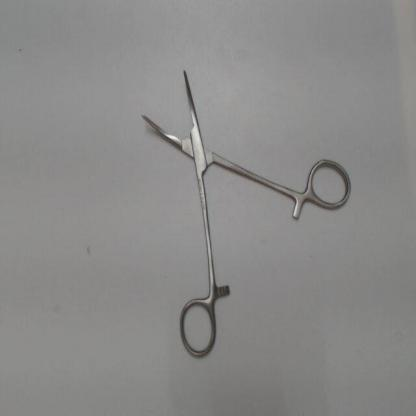Crile Artery Forceps: (131, 64, 355, 364)
